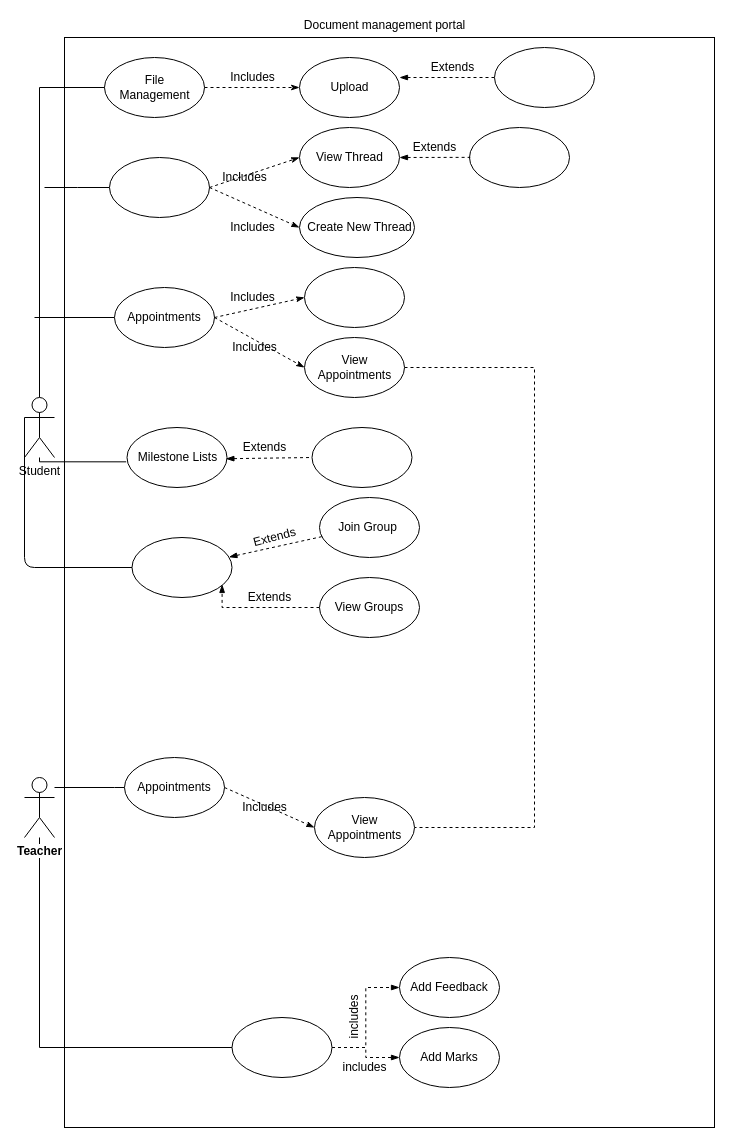
The diagram is 732 pixels wide and 1145 high, and some of its shapes have lost their labels. Each missing label, with the centre of its shape:
"Book Appointment" goes at point 354,297.
"Discussions" goes at point 159,187.
"Groups" goes at point 181,567.
"Reply to Thread" goes at point 519,157.
"Submit Milestone" goes at point 361,457.
"VersionFiles" goes at point 544,77.
"View Submission" goes at point 281,1047.
